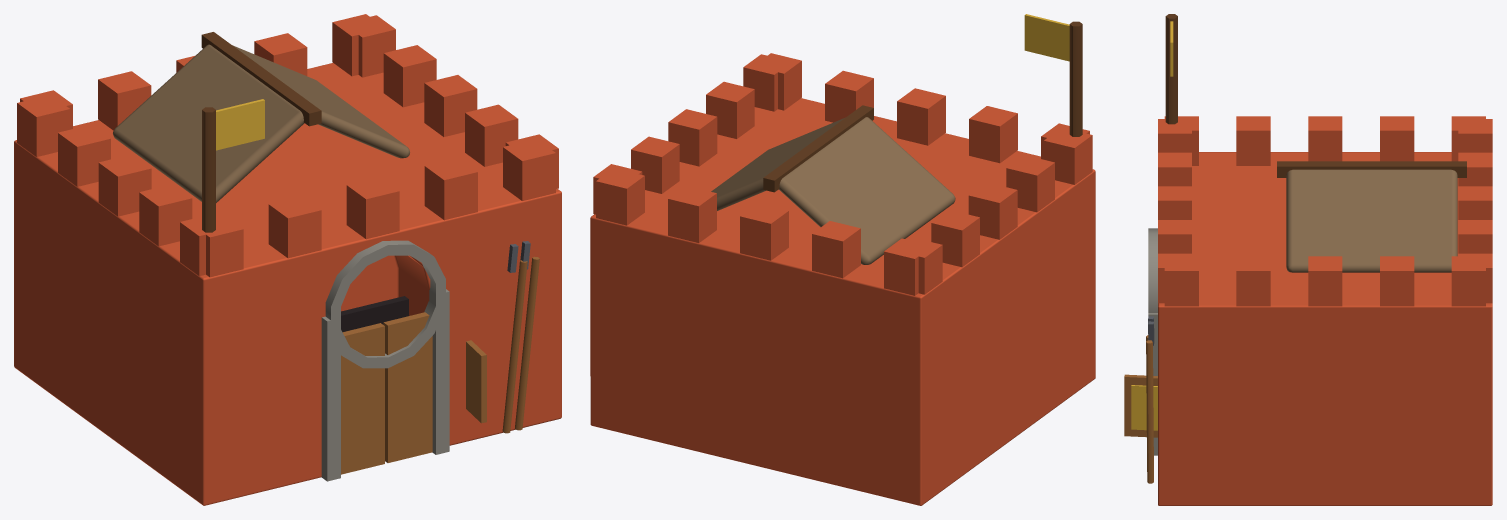
Rendered from Buildings__barracks.glb.
3 views of the same model, side by side, from view 1: azimuth 30°, elevation 25°; view 2: azimuth 150°, elevation 25°; view 3: azimuth 270°, elevation 25° (orthographic). The views are drawn at different scales.
Visible parts, largest first — view 1: barracks_mesh; view 2: barracks_mesh; view 3: barracks_mesh.
Part boxes in pixels (x1=…): barracks_mesh: x1=14, y1=14, x2=561, y2=505; barracks_mesh: x1=590, y1=14, x2=1095, y2=505; barracks_mesh: x1=1124, y1=14, x2=1492, y2=505.
Bounding box in the file's own units: 2.35 × 2.42 × 2.37.
